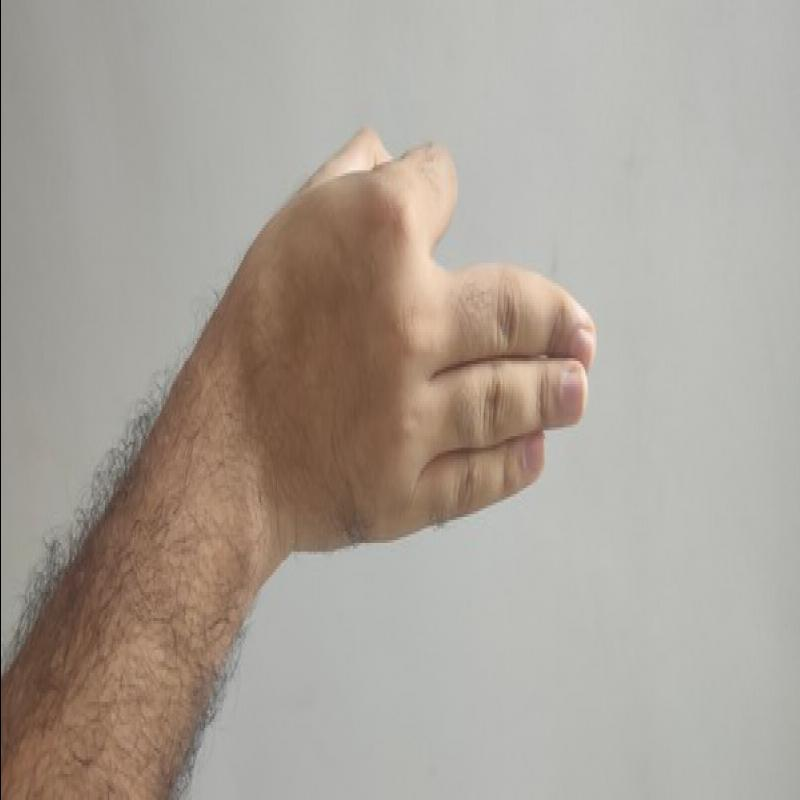Mudraakhyam: (244, 95, 629, 596)
